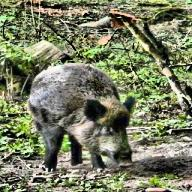boar: (26, 61, 136, 173)
